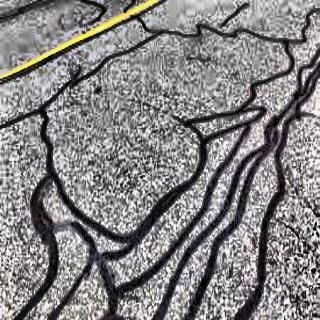crack: (269, 199, 320, 253), (123, 93, 186, 134)
